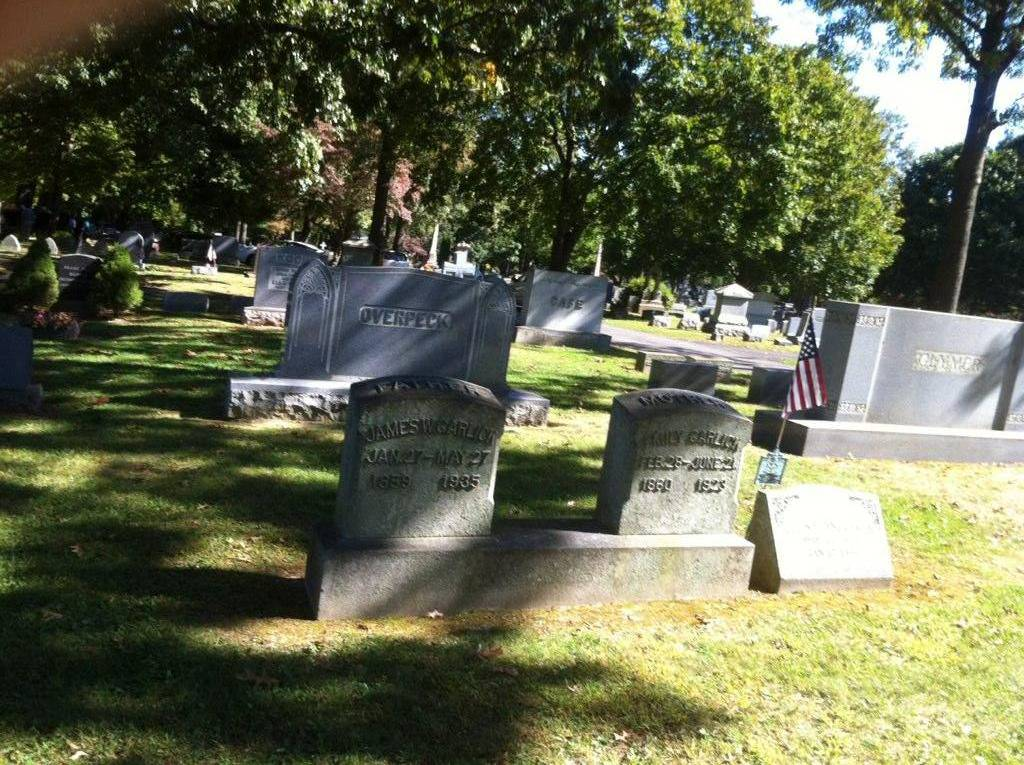upright: (293, 367, 779, 647)
